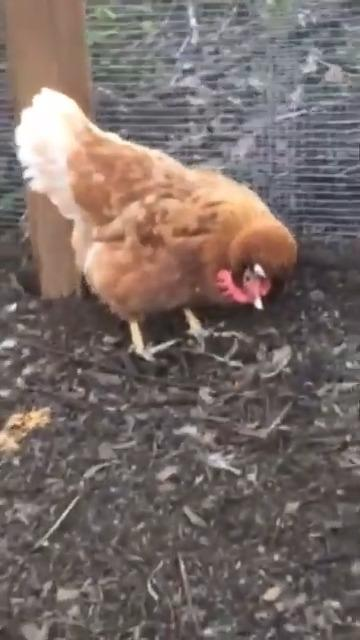AbNormal: (23, 93, 303, 352)
